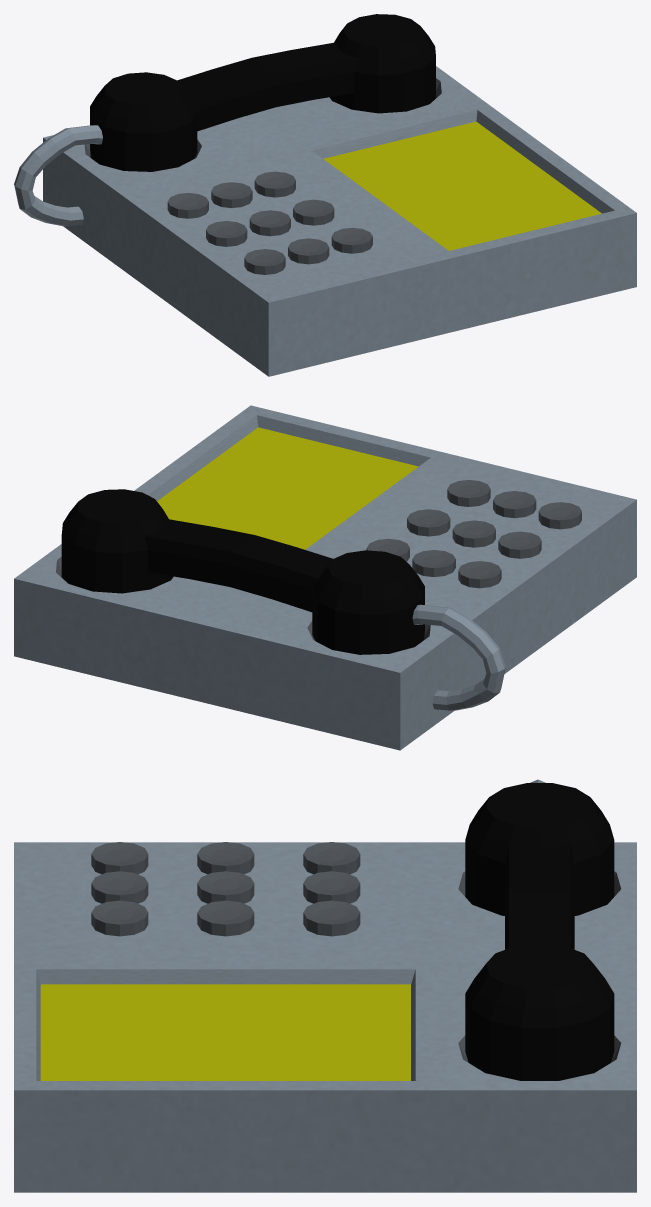
File: telephone.fbx
3 renders of one model, top to bottom at view 1: azimuth 30°, elevation 25°; view 2: azimuth 150°, elevation 25°; view 3: azimuth 270°, elevation 25°, orthographic. The views are drawn at different scales.
Visible parts, largest first — view 1: telephone; view 2: telephone; view 3: telephone.
Boxes of the visible parts, x1=… form: telephone: x1=14, y1=14, x2=636, y2=376; telephone: x1=14, y1=405, x2=636, y2=750; telephone: x1=14, y1=779, x2=636, y2=1192.
Bounding box in the file's own units: 33.2 × 9.74 × 30.04.
1 material, 1 textured.
